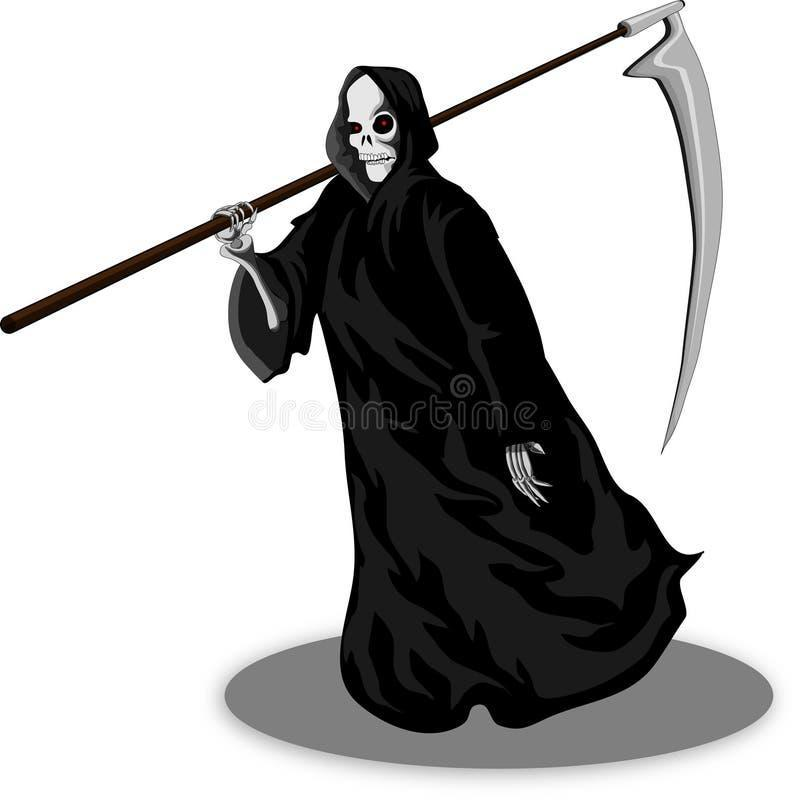foice: (531, 0, 715, 463)
